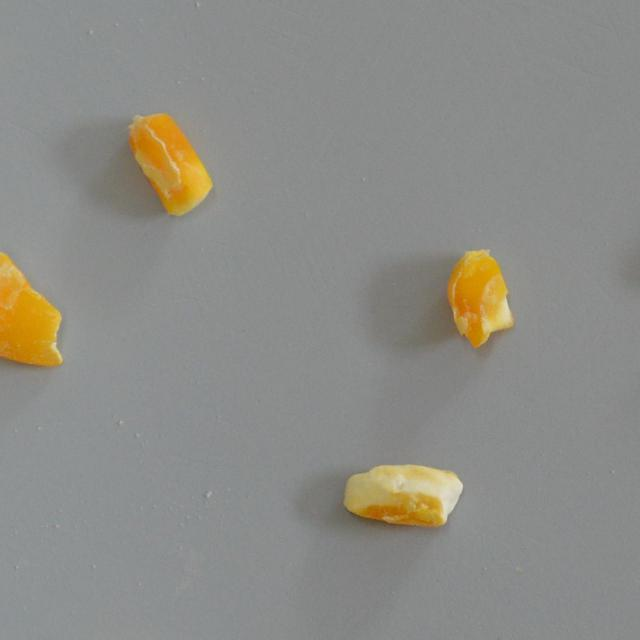pelicula: (124, 103, 210, 226), (439, 238, 524, 360), (336, 454, 464, 530), (0, 248, 64, 370)
